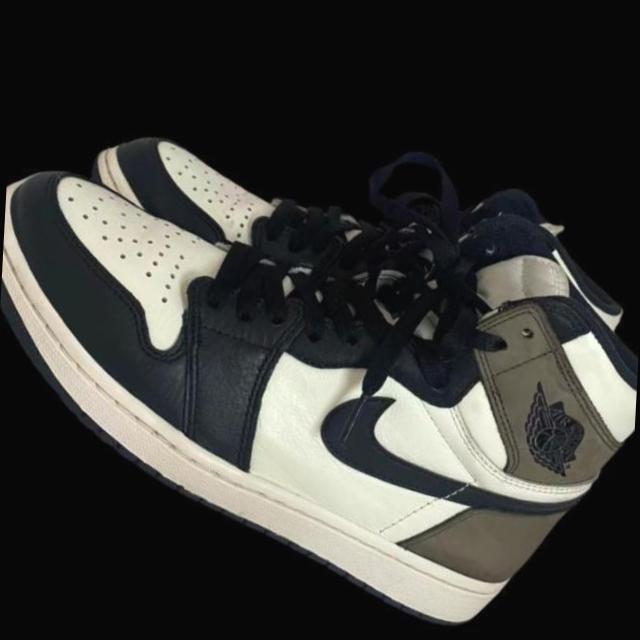nike_original_jordan: (0, 0, 640, 640), (65, 0, 640, 528)
